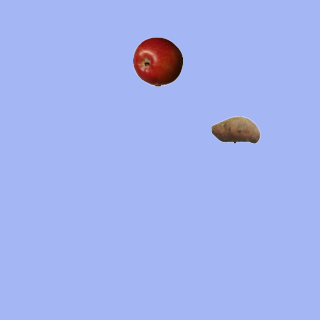Apple Braeburn: (132, 36, 182, 86)
Potato Sweet: (210, 104, 260, 154)
